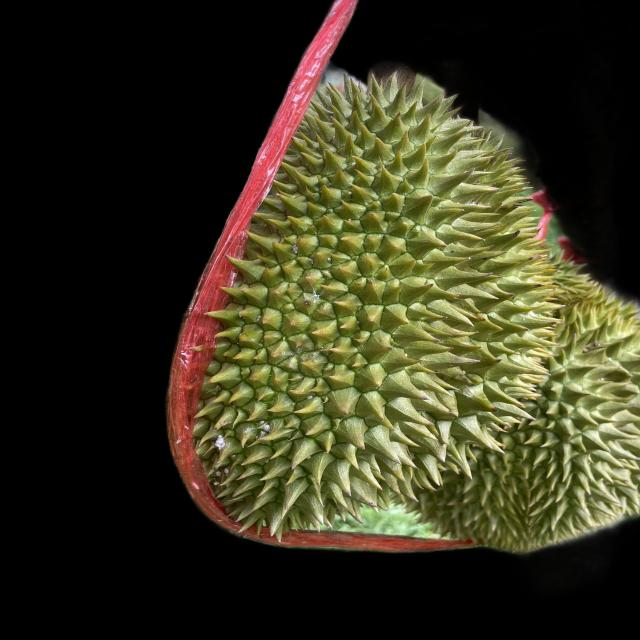immature: (179, 74, 565, 542)
